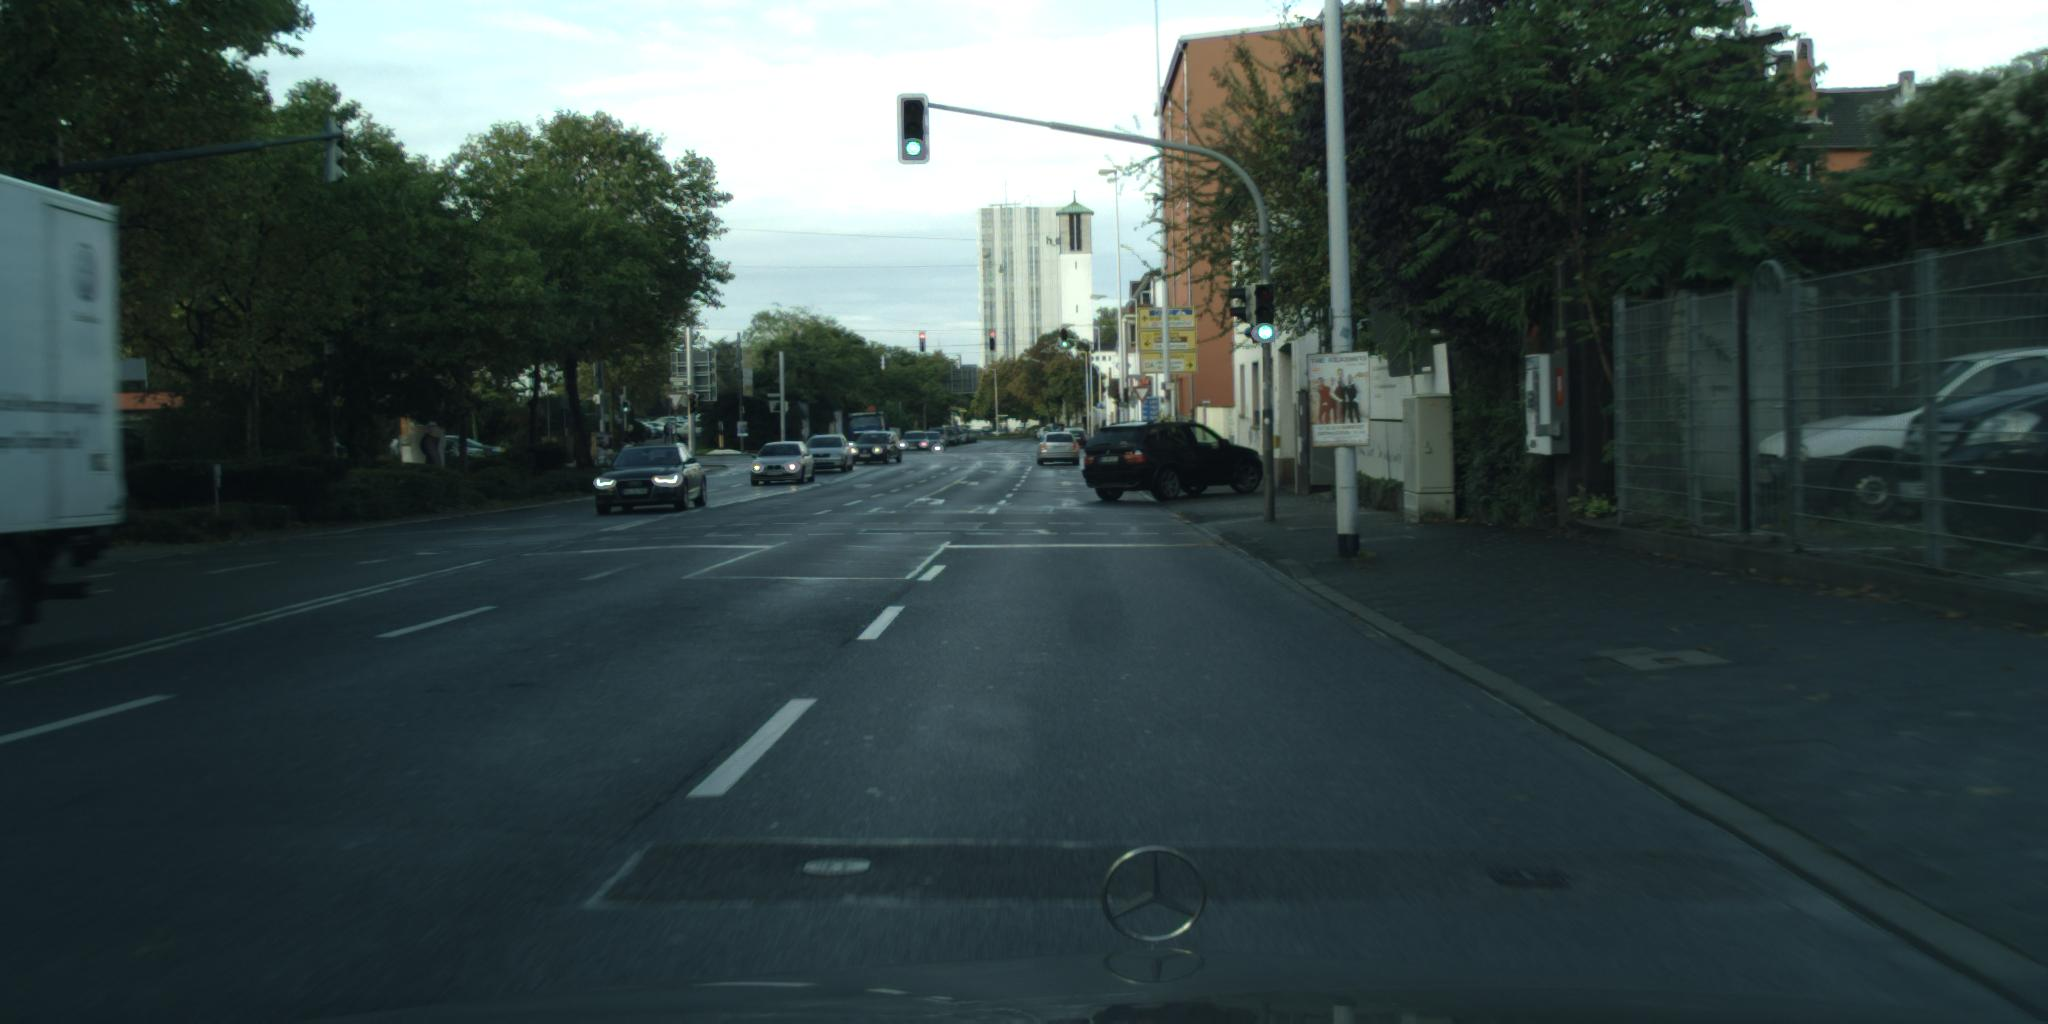car: (1081, 421, 1267, 502), (594, 443, 709, 515), (748, 441, 816, 487), (803, 434, 856, 473), (846, 431, 903, 466), (1038, 432, 1081, 466), (899, 431, 931, 452), (920, 432, 946, 453)
truck: (1, 172, 125, 667), (848, 411, 891, 452)
